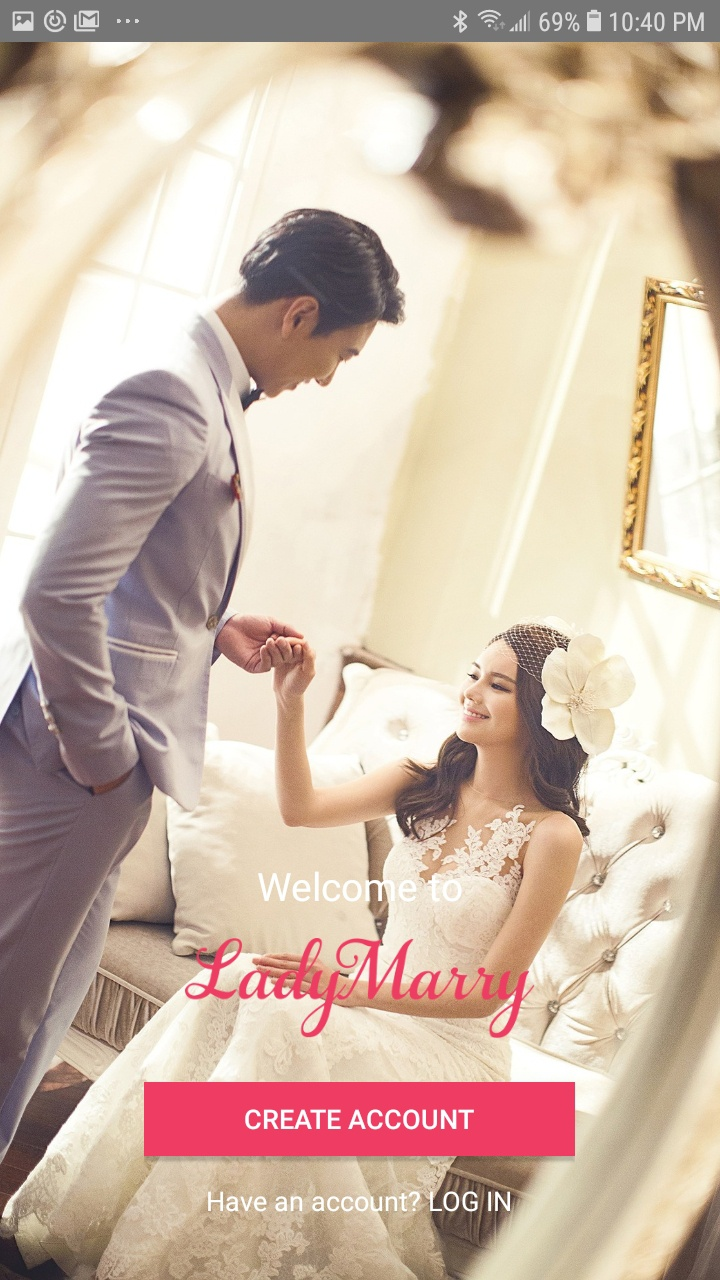BackgroundImage: (1, 43, 720, 1280)
Image: (185, 937, 535, 1038)
Text: (207, 1191, 511, 1213), (258, 871, 463, 903)
TextButton: (145, 1082, 576, 1157)
UpperTaskBar: (1, 1, 720, 43)
